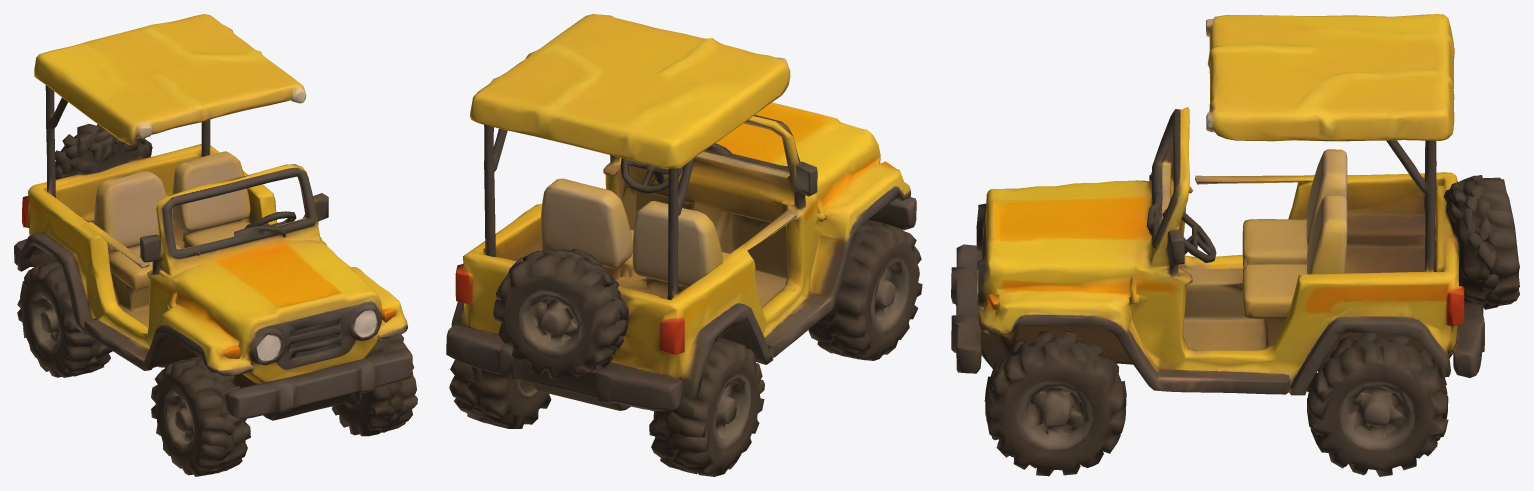
File: jeep.glb
The picture shows the model from 3 angles, left to right: view 1: azimuth 30°, elevation 25°; view 2: azimuth 150°, elevation 25°; view 3: azimuth 270°, elevation 25°; orthographic projection. The views are drawn at different scales.
Visible parts, largest first — view 1: tripo_node_d6aff9f5-c9e0-46d1-a8fe-82b43ca06e50; view 2: tripo_node_d6aff9f5-c9e0-46d1-a8fe-82b43ca06e50; view 3: tripo_node_d6aff9f5-c9e0-46d1-a8fe-82b43ca06e50.
Boxes of the visible parts, <box> form: tripo_node_d6aff9f5-c9e0-46d1-a8fe-82b43ca06e50: <box>14,14,417,476</box>; tripo_node_d6aff9f5-c9e0-46d1-a8fe-82b43ca06e50: <box>446,14,922,476</box>; tripo_node_d6aff9f5-c9e0-46d1-a8fe-82b43ca06e50: <box>951,14,1519,476</box>.
Size of the model in its own units: 0.5224 by 0.6973 by 1.
Materials: 1 (1 with a texture image).
